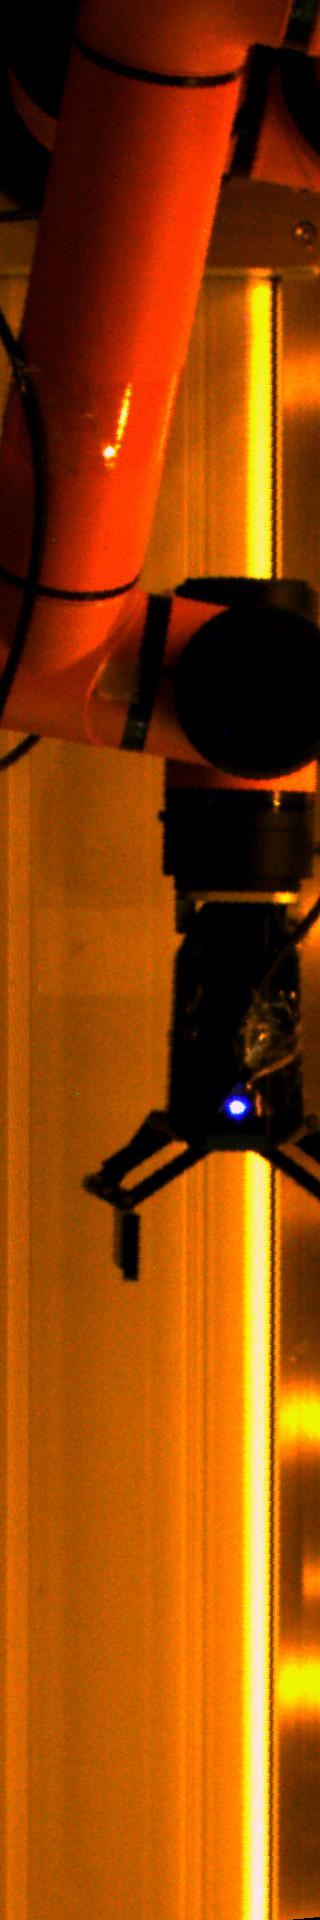keyPoint_1: (222, 1090, 253, 1120)
